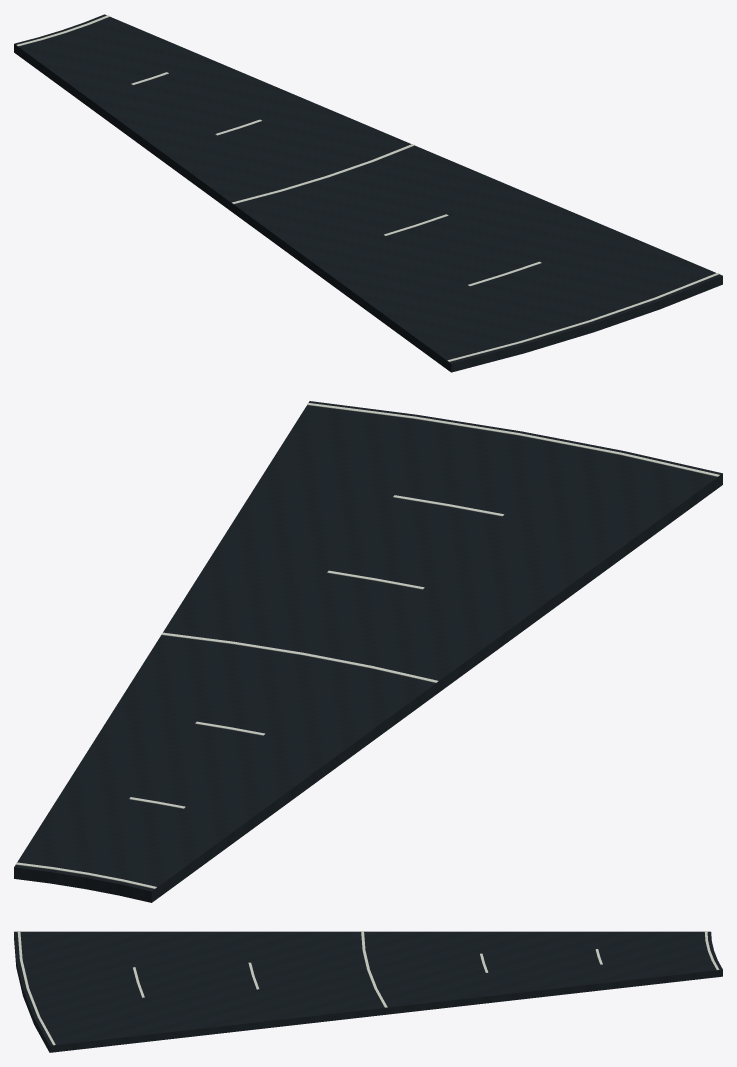
Rendered from Transit_Road_6L_Curve15_R18.glb.
3 views of the same model, one above another, from view 1: azimuth 30°, elevation 25°; view 2: azimuth 150°, elevation 25°; view 3: azimuth 270°, elevation 25° (orthographic). The views are drawn at different scales.
Visible parts, largest first — view 1: Transit_Road_6L_Curve15_R18_Surface, Transit_Road_6L_Curve15_R18_MarkEdge-1; view 2: Transit_Road_6L_Curve15_R18_Surface, Transit_Road_6L_Curve15_R18_MarkEdge-1, Transit_Road_6L_Curve15_R18_MarkLane3; view 3: Transit_Road_6L_Curve15_R18_Surface, Transit_Road_6L_Curve15_R18_MarkEdge-1, Transit_Road_6L_Curve15_R18_MarkLane3.
Part boxes in pixels (bbox=[...]): Transit_Road_6L_Curve15_R18_Surface: bbox=[14, 14, 722, 372]; Transit_Road_6L_Curve15_R18_MarkEdge-1: bbox=[447, 273, 719, 361]; Transit_Road_6L_Curve15_R18_Surface: bbox=[14, 401, 722, 902]; Transit_Road_6L_Curve15_R18_MarkEdge-1: bbox=[307, 402, 719, 476]; Transit_Road_6L_Curve15_R18_MarkLane3: bbox=[161, 632, 438, 682]; Transit_Road_6L_Curve15_R18_Surface: bbox=[14, 931, 722, 1052]; Transit_Road_6L_Curve15_R18_MarkEdge-1: bbox=[17, 931, 55, 1045]; Transit_Road_6L_Curve15_R18_MarkLane3: bbox=[361, 931, 387, 1007].
Size of the model in its own units: 6.99 by 0.212 by 18.31.
2 materials, 1 textured.
